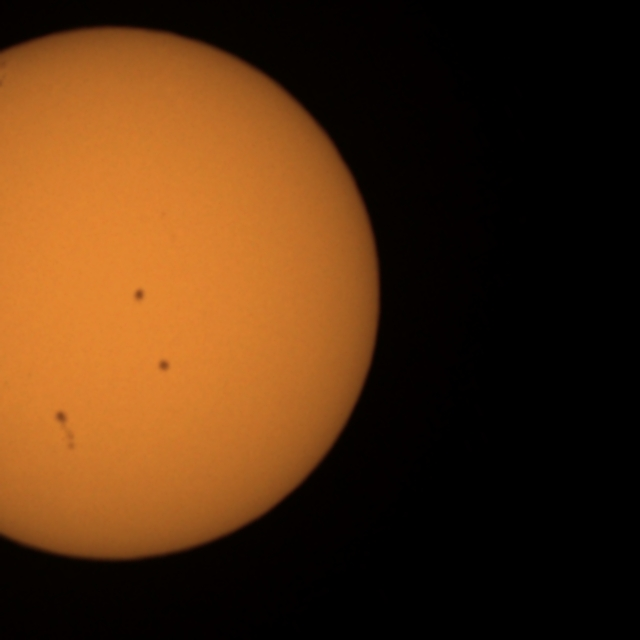sunspot: (52, 408, 78, 453), (131, 286, 147, 305), (156, 357, 172, 375)
